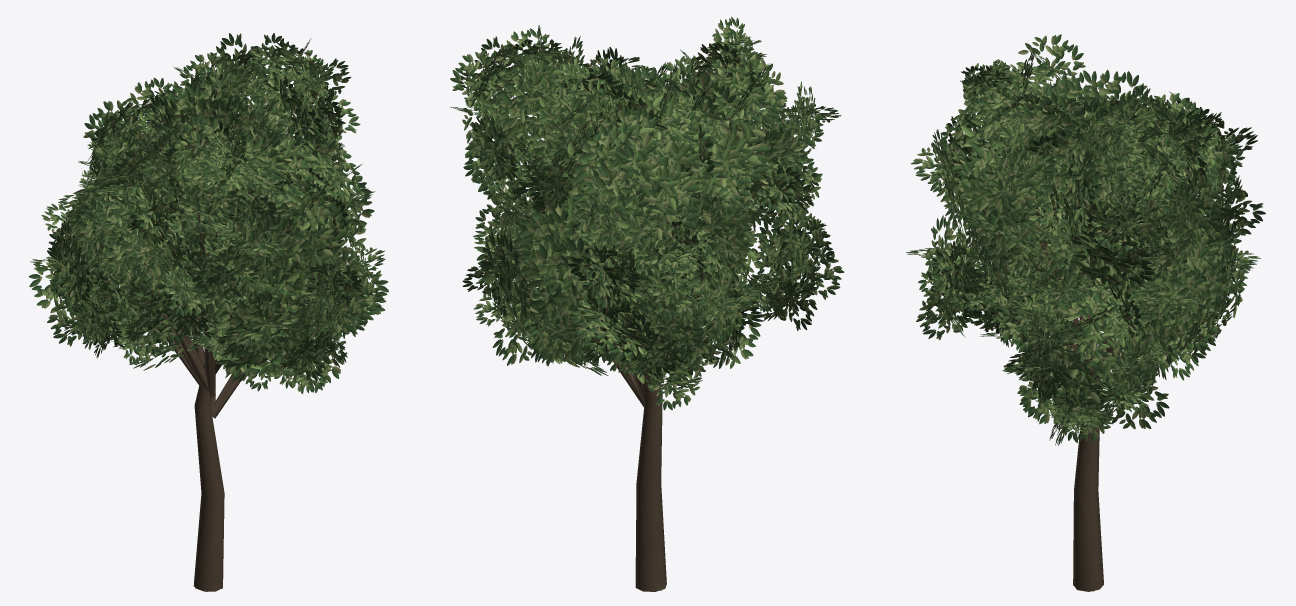
The model's file is pilot_tree_vertical.glb.
The picture shows the model from 3 angles, left to right: view 1: azimuth 30°, elevation 25°; view 2: azimuth 150°, elevation 25°; view 3: azimuth 270°, elevation 25°; orthographic projection. The views are drawn at different scales.
Parts seen in each view (by area): view 1: pilot_tree_vertical_leaves, pilot_tree_vertical_leaves.001, pilot_tree_vertical_trunk, pilot_tree_vertical_trunk.001, pilot_tree_vertical_branch4; view 2: pilot_tree_vertical_leaves, pilot_tree_vertical_leaves.001, pilot_tree_vertical_trunk, pilot_tree_vertical_trunk.001; view 3: pilot_tree_vertical_leaves, pilot_tree_vertical_leaves.001, pilot_tree_vertical_trunk, pilot_tree_vertical_trunk.001.
Part boxes in pixels (<box>): pilot_tree_vertical_leaves: <box>28,33,388,394</box>; pilot_tree_vertical_leaves.001: <box>57,56,365,381</box>; pilot_tree_vertical_trunk: <box>194,333,224,591</box>; pilot_tree_vertical_trunk.001: <box>193,333,223,591</box>; pilot_tree_vertical_branch4: <box>136,270,212,397</box>; pilot_tree_vertical_leaves: <box>450,17,844,410</box>; pilot_tree_vertical_leaves.001: <box>465,53,815,383</box>; pilot_tree_vertical_trunk: <box>635,382,666,591</box>; pilot_tree_vertical_trunk.001: <box>635,383,662,590</box>; pilot_tree_vertical_leaves: <box>906,34,1265,445</box>; pilot_tree_vertical_leaves.001: <box>934,70,1245,429</box>; pilot_tree_vertical_trunk: <box>1073,368,1103,591</box>; pilot_tree_vertical_trunk.001: <box>1076,385,1094,591</box>.
Bounding box in the file's own units: 5.04 × 7.33 × 4.84.
2 materials, 2 textured.
